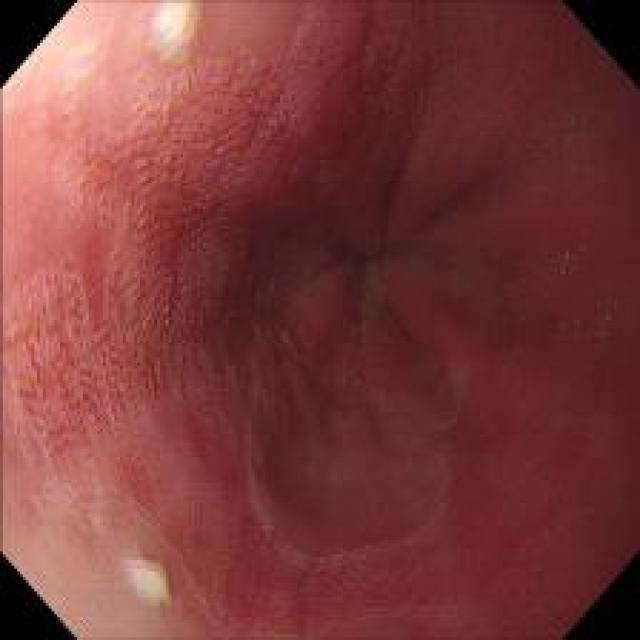blur: (14, 12, 212, 530), (175, 295, 430, 625)
color misalignment: (554, 240, 585, 284), (558, 316, 585, 341), (598, 304, 615, 342)
contrast: (238, 106, 536, 431)
